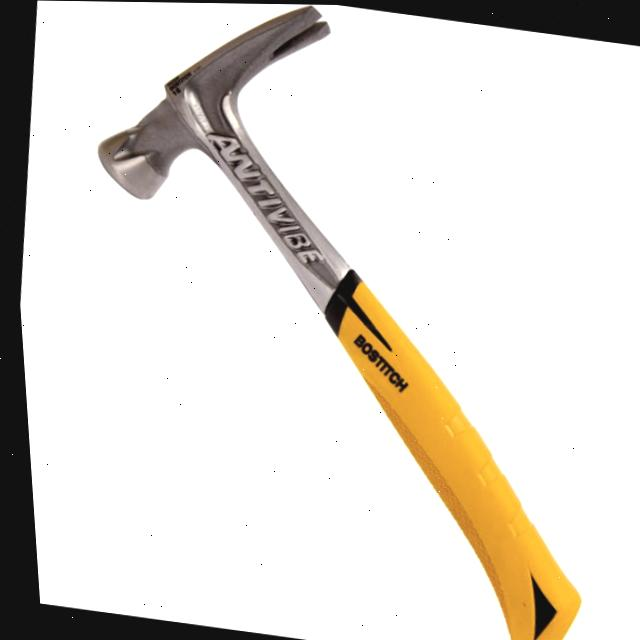hammer: (22, 0, 640, 640)
